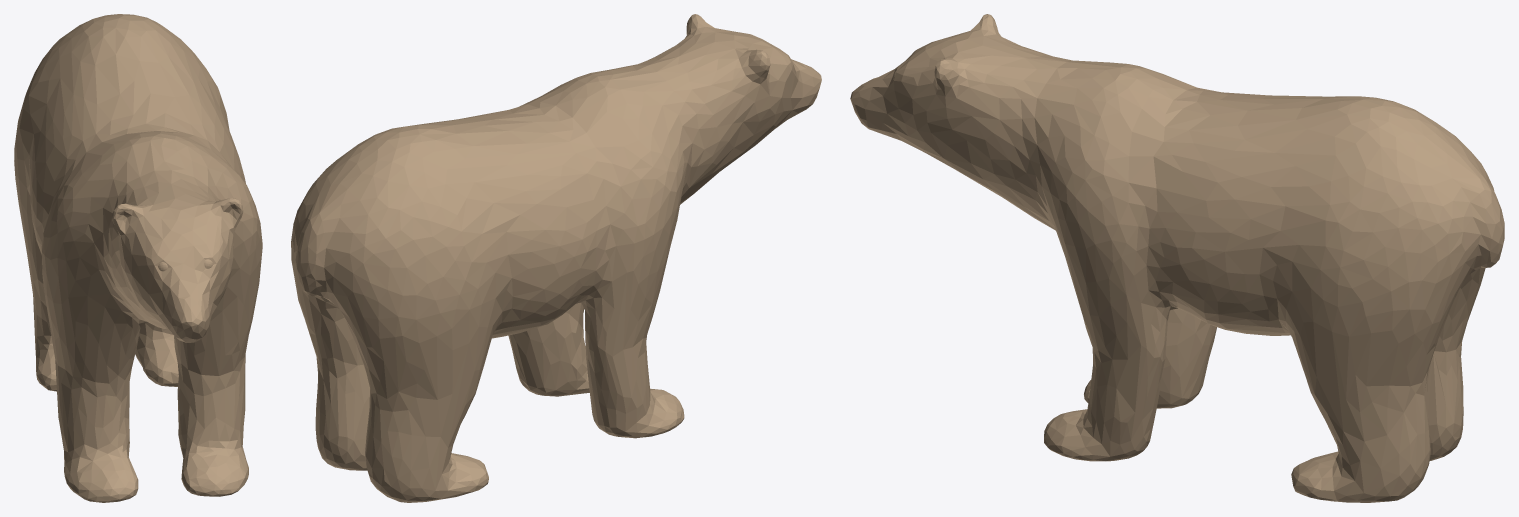
File: Bodacious Jofo-Blorr.glb
3 views of the same model, side by side, from view 1: azimuth 30°, elevation 25°; view 2: azimuth 150°, elevation 25°; view 3: azimuth 270°, elevation 25° (orthographic). The views are drawn at different scales.
Visible parts, largest first — view 1: Mesh_Mesh_head_geo.001_lambert2SG.001; view 2: Mesh_Mesh_head_geo.001_lambert2SG.001; view 3: Mesh_Mesh_head_geo.001_lambert2SG.001.
Boxes of the visible parts, left/top/right/bottom form: Mesh_Mesh_head_geo.001_lambert2SG.001: left=14, top=14, right=262, bottom=502; Mesh_Mesh_head_geo.001_lambert2SG.001: left=291, top=14, right=821, bottom=502; Mesh_Mesh_head_geo.001_lambert2SG.001: left=850, top=14, right=1504, bottom=502.
Size of the model in its own units: 0.0588 by 0.0683 by 0.1104.
